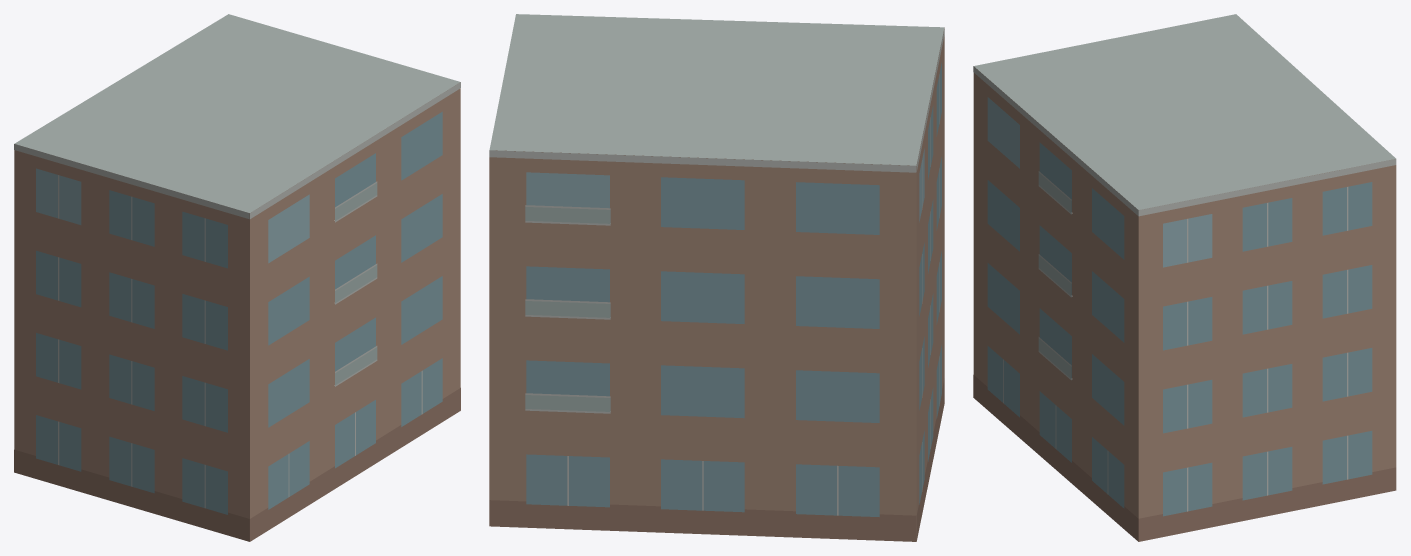
Rendered from survey-upis-32908103.glb.
3 views of the same model, side by side, from view 1: azimuth 30°, elevation 25°; view 2: azimuth 150°, elevation 25°; view 3: azimuth 270°, elevation 25° (orthographic). The views are drawn at different scales.
Parts seen in each view (by area): view 1: survey-upis-32908103.tmp; view 2: survey-upis-32908103.tmp; view 3: survey-upis-32908103.tmp.
Boxes of the visible parts, x1,y1,x2,y2 form: survey-upis-32908103.tmp: (14, 14, 460, 541); survey-upis-32908103.tmp: (489, 14, 944, 541); survey-upis-32908103.tmp: (973, 14, 1396, 541).
Size of the model in its own units: 16.49 by 13 by 15.02.
